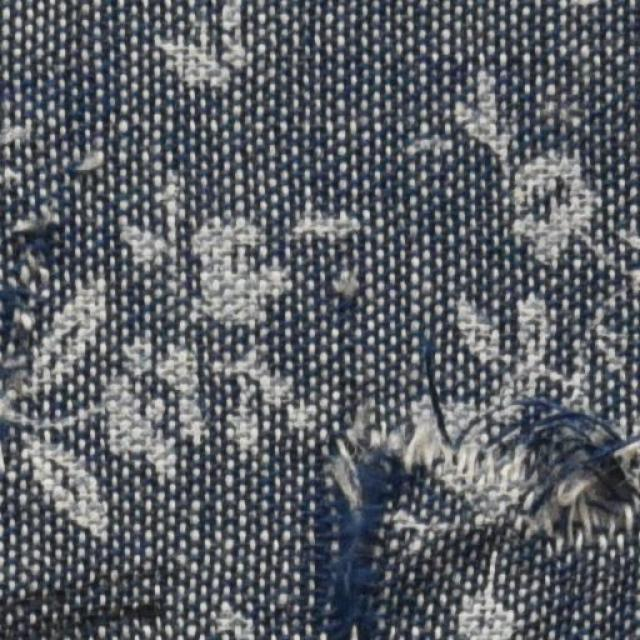Snag: (308, 399, 639, 637), (4, 197, 60, 324)
